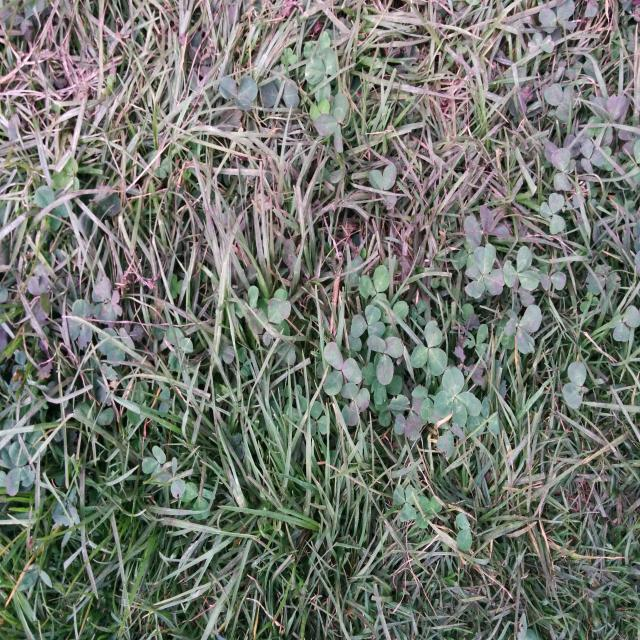Four Leaf Clover: (434, 368, 481, 427)
